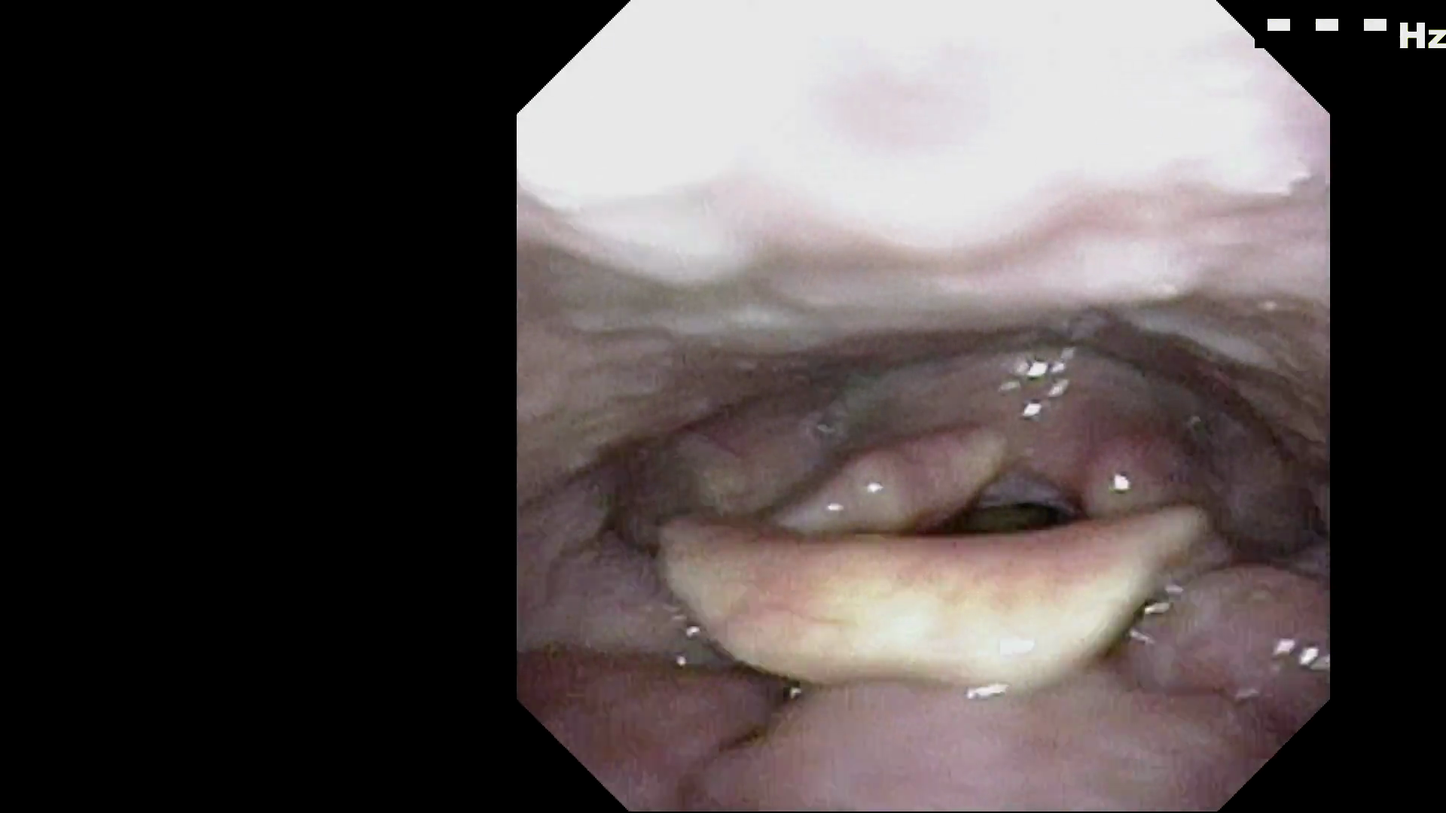epiglottis: (655, 571, 1196, 711)
